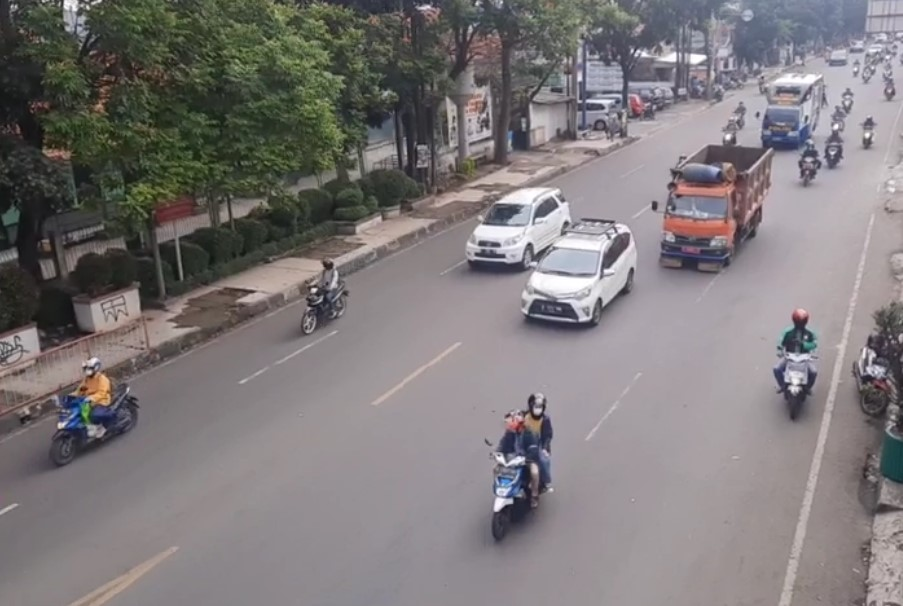motor: (483, 396, 557, 547), (44, 362, 142, 456), (767, 309, 818, 422), (294, 259, 348, 334)
